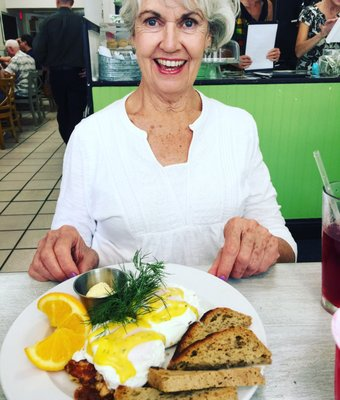sushi: (73, 263, 139, 302)
taco: (24, 291, 91, 372)
